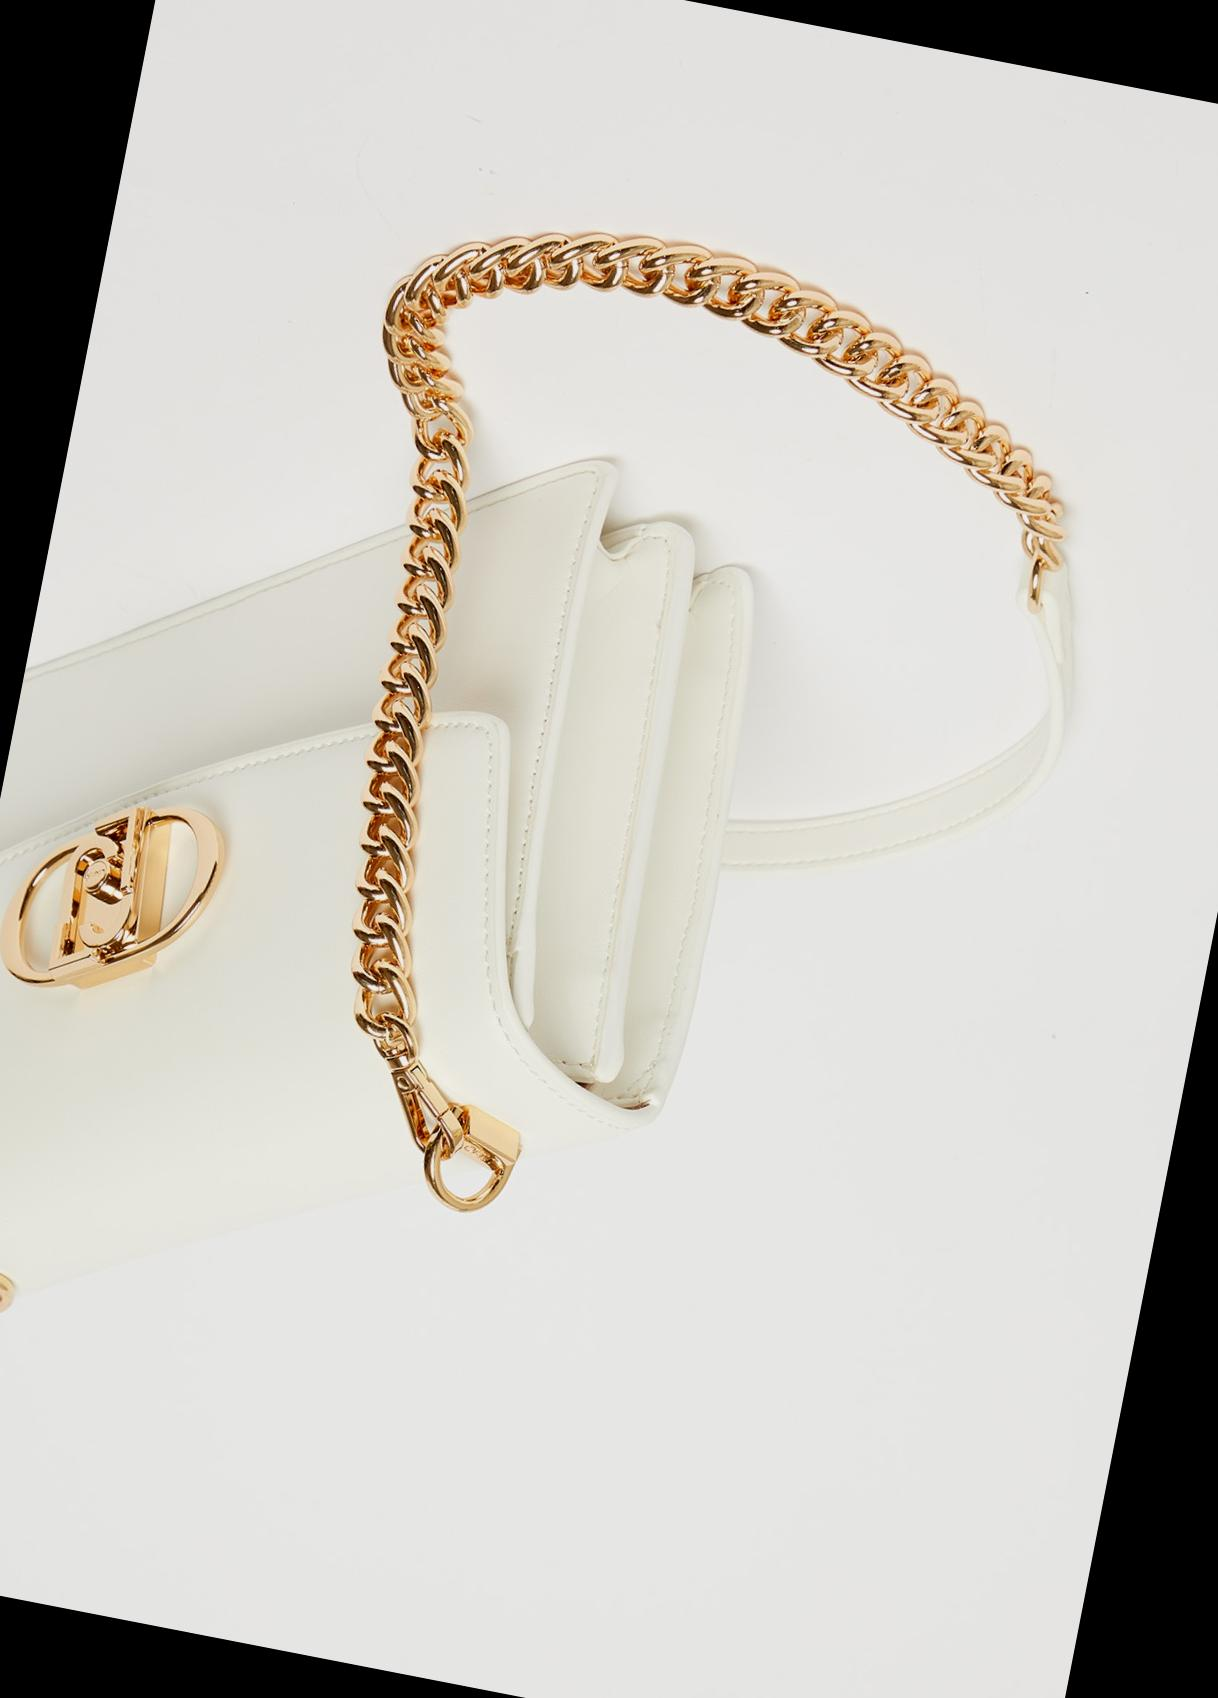LIU-JO: (43, 795, 156, 985)
